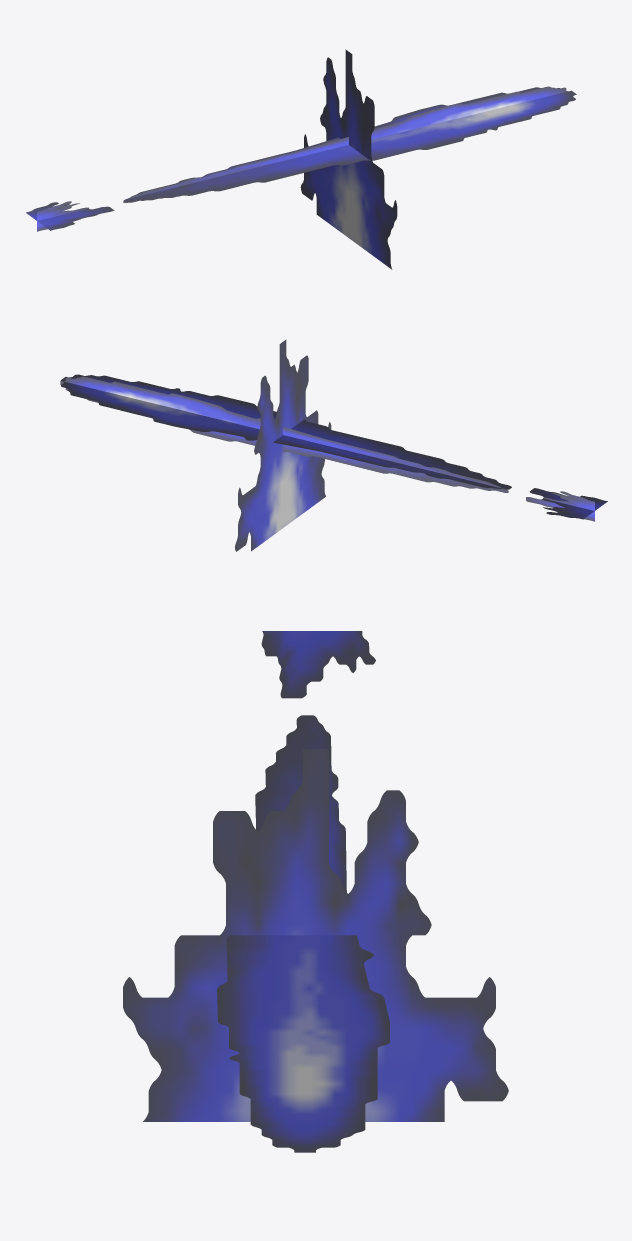
File: DISP_SHOT_EFFECT.obj
The picture shows the model from 3 angles, top to bottom: view 1: azimuth 30°, elevation 25°; view 2: azimuth 150°, elevation 25°; view 3: azimuth 270°, elevation 25°; orthographic projection. The views are drawn at different scales.
Visible parts, largest first — view 1: Group1; view 2: Group1; view 3: Group1.
Part boxes in pixels (x1,y1,x2,y2): Group1: (26,49,576,269); Group1: (60,339,607,551); Group1: (123,631,508,1152).
Bounding box in the file's own units: 192 × 64 × 64.
